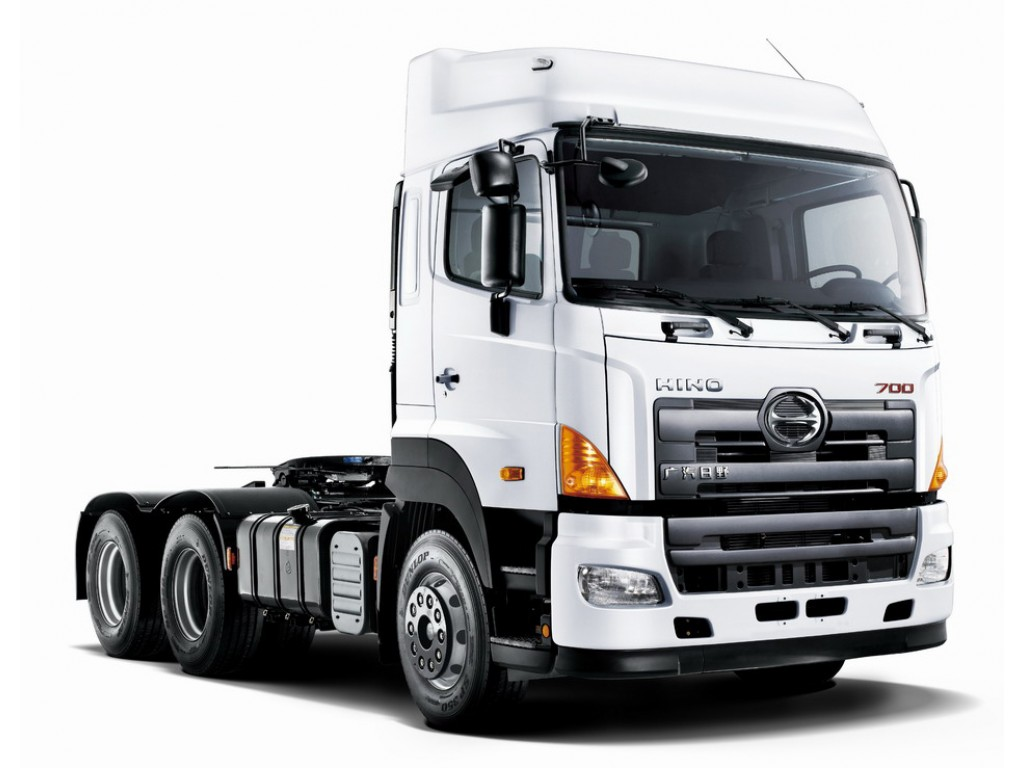truck: (73, 47, 959, 729)
